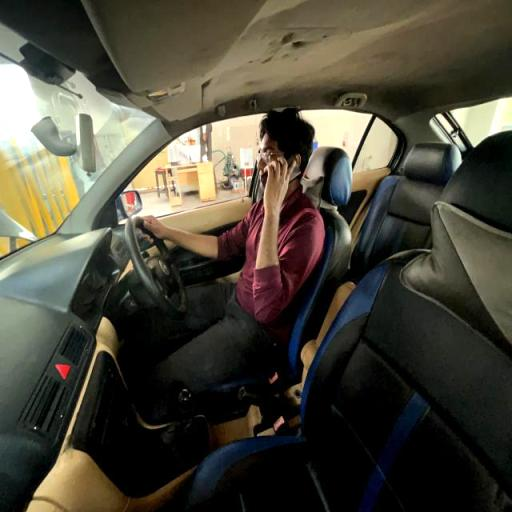Talking_on_phone: (139, 110, 327, 313)
